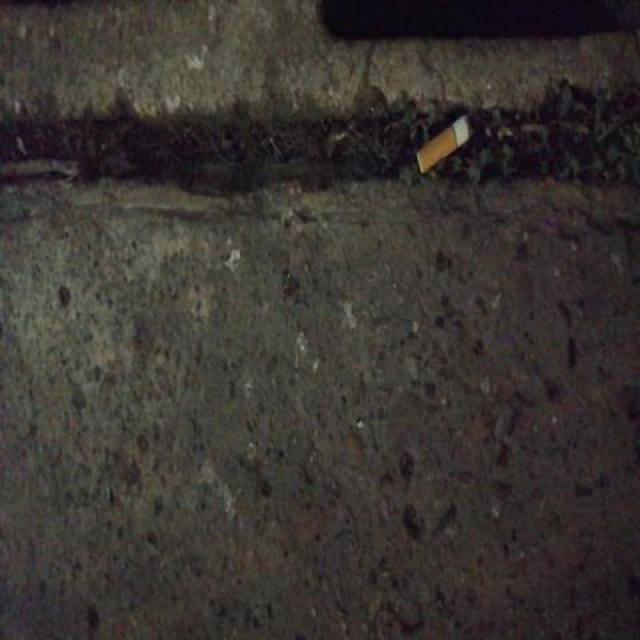non-organic waste: (412, 110, 472, 179)
